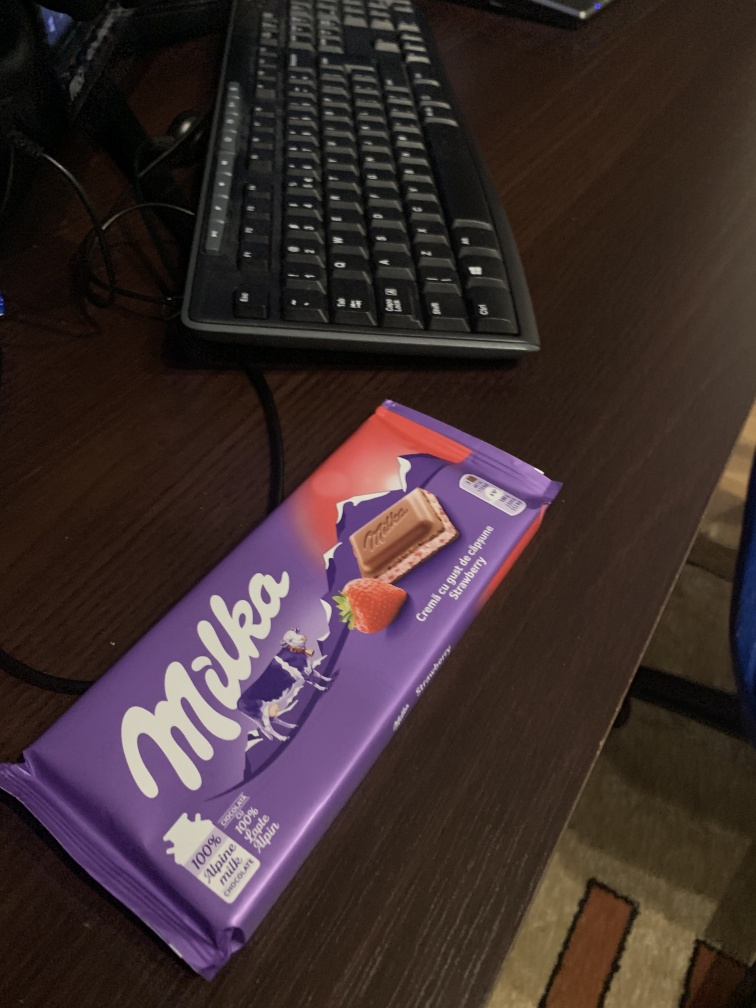milka: (17, 379, 559, 977)
